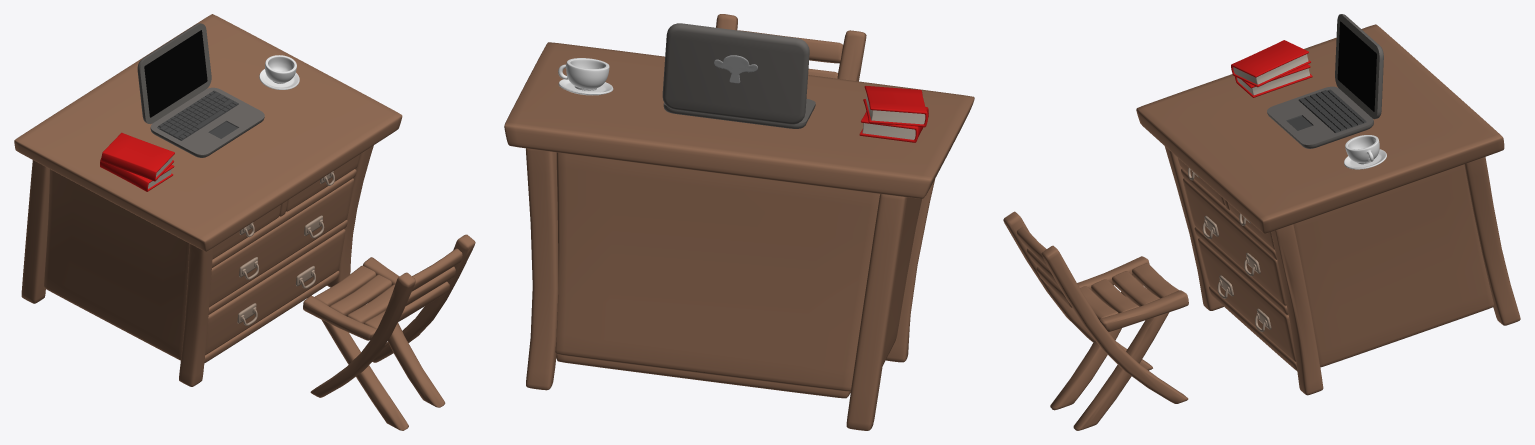
3 renders of one model, left to right at view 1: azimuth 30°, elevation 25°; view 2: azimuth 150°, elevation 25°; view 3: azimuth 270°, elevation 25°, orthographic. The views are drawn at different scales.
Parts seen in each view (by area): view 1: Dresser, Wooden_Chair, Computer, Book.001, Tea Cup, Book; view 2: Dresser, Computer, Wooden_Chair, Book.001, Tea Cup, Book; view 3: Dresser, Wooden_Chair, Computer, Book.001, Tea Cup, Book.
Boxes of the visible parts, x1,y1,x2,y2 form: Dresser: (14,14,402,386); Wooden_Chair: (303,234,475,430); Computer: (137,23,264,157); Book.001: (101,132,174,181); Tea Cup: (259,55,299,89); Book: (100,157,174,191); Dresser: (504,42,974,430); Computer: (662,23,815,128); Wooden_Chair: (716,14,866,81); Book.001: (863,86,927,127); Tea Cup: (558,58,613,95); Book: (859,107,928,142); Dresser: (1136,24,1520,395); Wooden_Chair: (1003,211,1188,430); Computer: (1267,14,1383,148); Book.001: (1231,40,1310,87); Tea Cup: (1344,135,1386,169); Book: (1235,64,1312,97).
Bounding box in the file's own units: 2.07 × 1.82 × 2.55.
